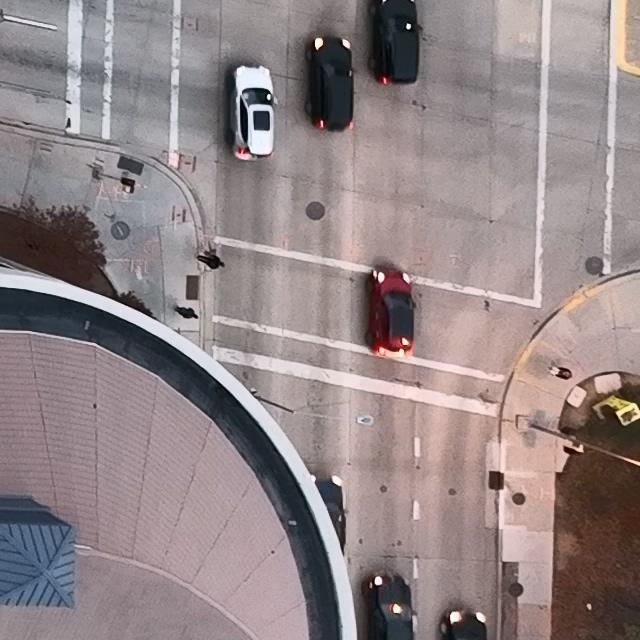car: (223, 62, 278, 161), (304, 35, 358, 132), (364, 266, 418, 357), (367, 0, 423, 86), (360, 569, 419, 640), (308, 473, 350, 557), (438, 606, 488, 640)
